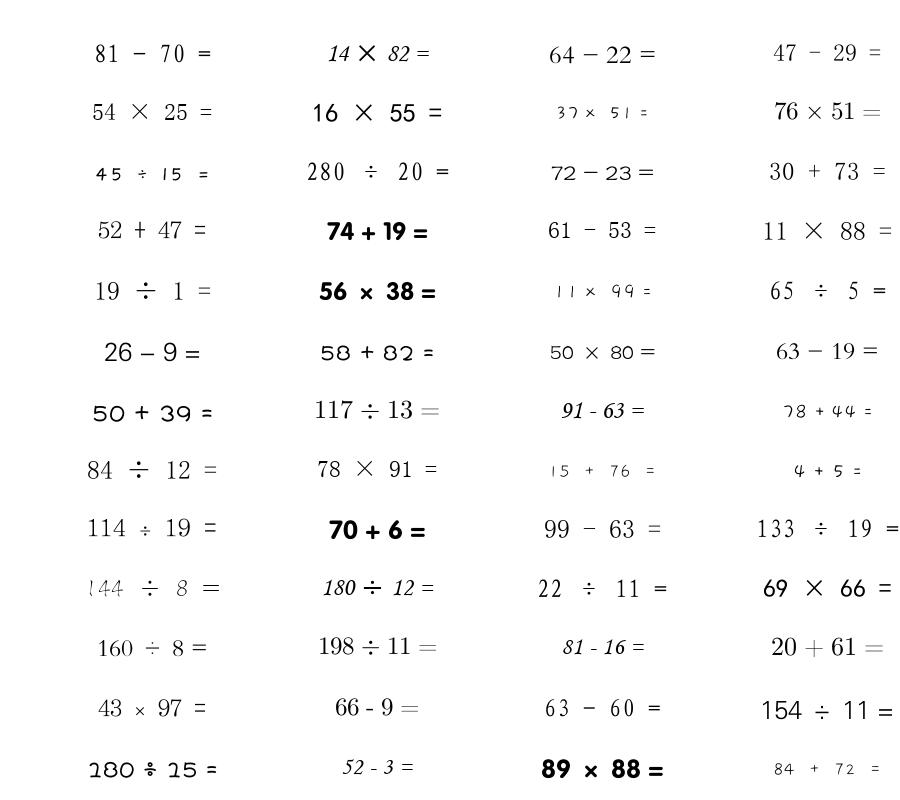MQ: (306, 162, 449, 181), (756, 519, 899, 538), (760, 701, 894, 720), (312, 103, 442, 122), (762, 221, 892, 240), (87, 460, 217, 479), (87, 518, 217, 537), (537, 579, 667, 598), (541, 759, 664, 779), (85, 579, 220, 597), (314, 400, 440, 419), (771, 637, 884, 658), (319, 281, 436, 301), (763, 579, 892, 597), (87, 761, 218, 778), (94, 44, 211, 63), (94, 281, 211, 300), (769, 281, 886, 300), (318, 637, 437, 655), (769, 162, 886, 180), (544, 520, 661, 538), (544, 699, 661, 717), (92, 405, 213, 422), (92, 103, 212, 120), (317, 460, 437, 477), (327, 221, 428, 241), (98, 221, 206, 239), (98, 699, 206, 717), (104, 342, 201, 362), (329, 520, 426, 540), (549, 46, 656, 64), (774, 102, 881, 120), (321, 579, 434, 596), (97, 640, 208, 657), (773, 44, 881, 61), (320, 345, 434, 361), (326, 45, 429, 62), (776, 343, 879, 360), (548, 222, 656, 238), (94, 167, 210, 181), (548, 464, 657, 478), (335, 698, 419, 716), (553, 284, 652, 299), (550, 345, 655, 359), (551, 166, 654, 180), (560, 402, 644, 419), (773, 763, 882, 776), (782, 404, 873, 419), (561, 639, 644, 655), (555, 106, 649, 120), (341, 759, 413, 775), (793, 464, 862, 479)
